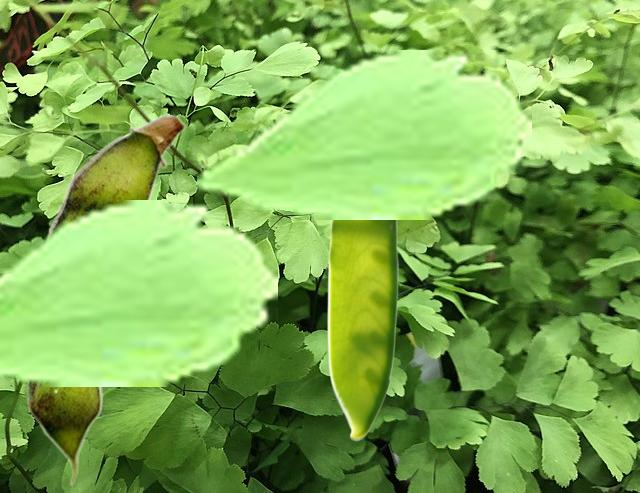pea: (26, 113, 185, 485), (327, 219, 398, 440)
